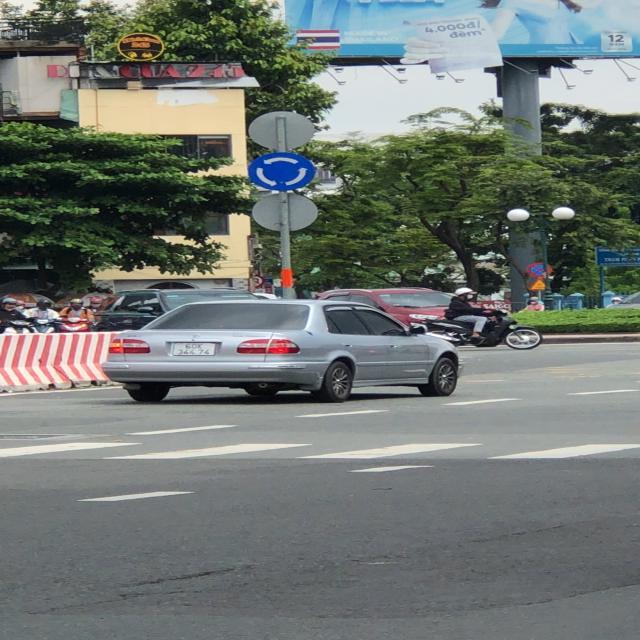Bien bao noi giao nhau chay theo vong xuyen: (246, 150, 324, 192)
